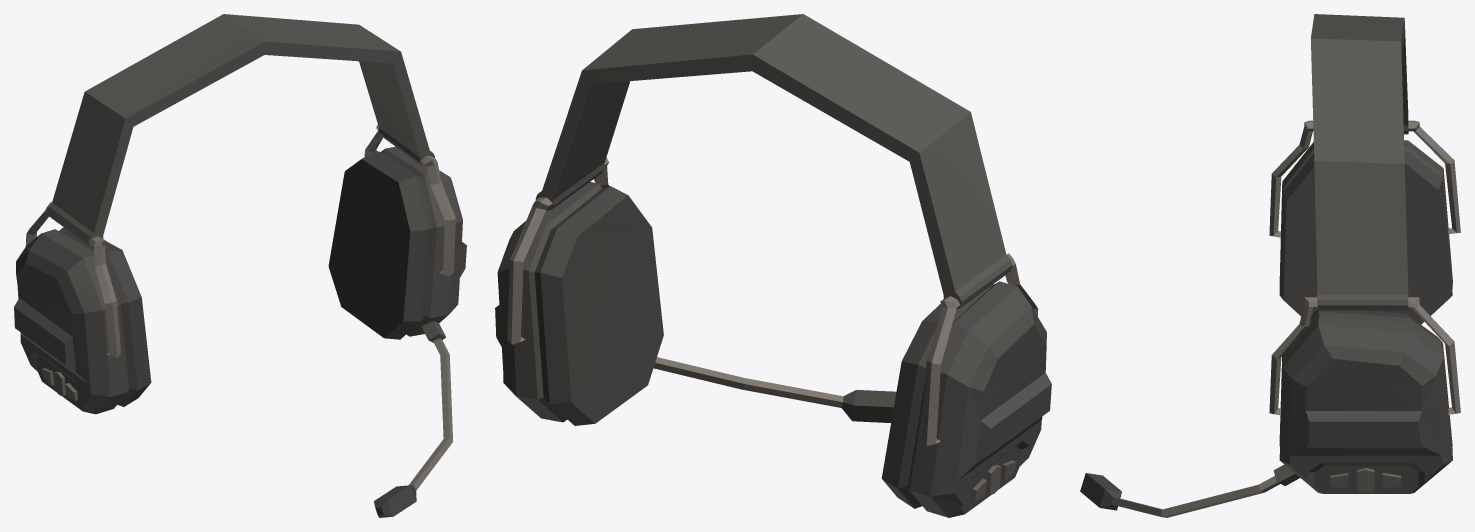
Rendered from HeadSet_01_SM.FBX.
3 views of the same model, side by side, from view 1: azimuth 30°, elevation 25°; view 2: azimuth 150°, elevation 25°; view 3: azimuth 270°, elevation 25° (orthographic). The views are drawn at different scales.
Visible parts, largest first — view 1: HeadSet_01_SM; view 2: HeadSet_01_SM; view 3: HeadSet_01_SM.
Boxes of the visible parts, x1,y1,x2,y2 form: HeadSet_01_SM: (14, 14, 466, 517); HeadSet_01_SM: (495, 14, 1051, 517); HeadSet_01_SM: (1080, 14, 1460, 517).
Size of what is drawn, in the model's own units: 27.75 by 20.77 by 26.89.
